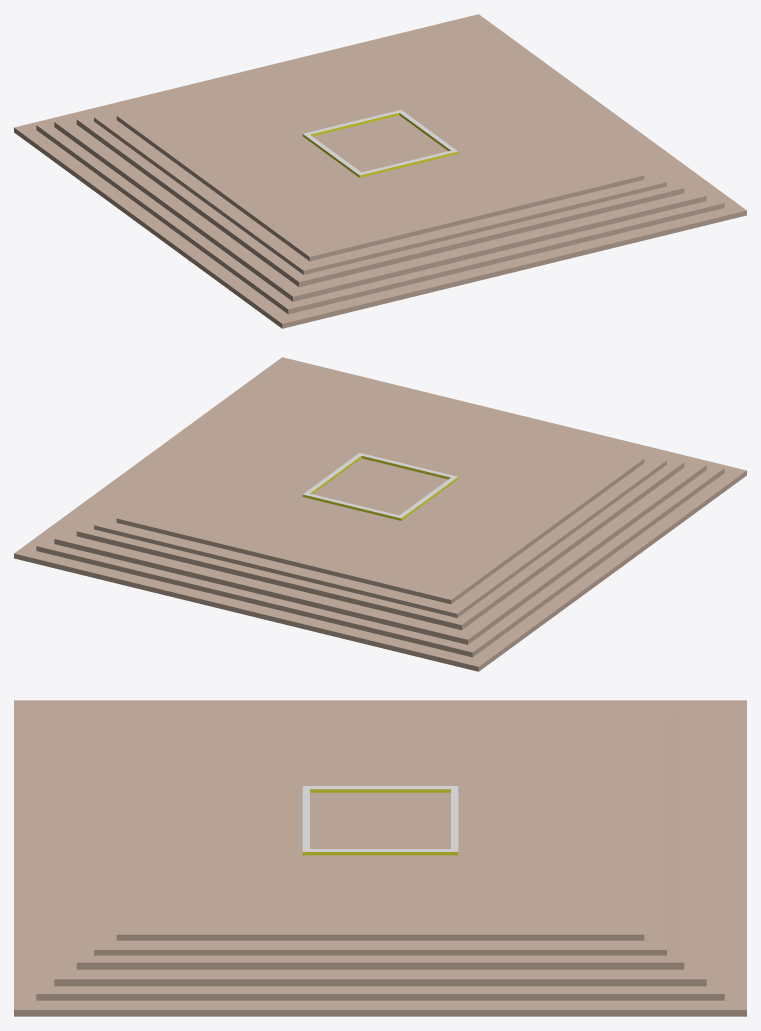
Rendered from Colliders.fbx.
3 renders of one model, top to bottom at view 1: azimuth 30°, elevation 25°; view 2: azimuth 150°, elevation 25°; view 3: azimuth 270°, elevation 25°, orthographic. The views are drawn at different scales.
Visible parts, largest first — view 1: TOWER_FLOOR0_nomesh_collider_box.006, TOWER_FLOOR0_nomesh_collider_box.001, TOWER_FLOOR0_nomesh_collider_box.003, TOWER_FLOOR0_nomesh_collider_box.005, TOWER_FLOOR0_nomesh_collider_box.002, TOWER_FLOOR0_nomesh_collider_box.004, TOWER_FLOOR0_nomesh_collider_box.008, TOWER_FLOOR0_nomesh_collider_box.010; view 2: TOWER_FLOOR0_nomesh_collider_box.006, TOWER_FLOOR0_nomesh_collider_box.001, TOWER_FLOOR0_nomesh_collider_box.003, TOWER_FLOOR0_nomesh_collider_box.005, TOWER_FLOOR0_nomesh_collider_box.002, TOWER_FLOOR0_nomesh_collider_box.004, TOWER_FLOOR0_nomesh_collider_box.010, TOWER_FLOOR0_nomesh_collider_box.008; view 3: TOWER_FLOOR0_nomesh_collider_box.006, TOWER_FLOOR0_nomesh_collider_box.001, TOWER_FLOOR0_nomesh_collider_box.003, TOWER_FLOOR0_nomesh_collider_box.005, TOWER_FLOOR0_nomesh_collider_box.002, TOWER_FLOOR0_nomesh_collider_box.004, TOWER_FLOOR0_nomesh_collider_box.007, TOWER_FLOOR0_nomesh_collider_box.009.
Boxes of the visible parts, <box> form: TOWER_FLOOR0_nomesh_collider_box.006: <box>116,34,644,261</box>; TOWER_FLOOR0_nomesh_collider_box.001: <box>14,14,746,328</box>; TOWER_FLOOR0_nomesh_collider_box.003: <box>54,21,706,301</box>; TOWER_FLOOR0_nomesh_collider_box.005: <box>94,29,666,274</box>; TOWER_FLOOR0_nomesh_collider_box.002: <box>36,18,724,314</box>; TOWER_FLOOR0_nomesh_collider_box.004: <box>76,25,684,287</box>; TOWER_FLOOR0_nomesh_collider_box.008: <box>359,150,458,177</box>; TOWER_FLOOR0_nomesh_collider_box.010: <box>303,110,400,136</box>; TOWER_FLOOR0_nomesh_collider_box.006: <box>116,377,644,604</box>; TOWER_FLOOR0_nomesh_collider_box.001: <box>14,357,746,671</box>; TOWER_FLOOR0_nomesh_collider_box.003: <box>54,364,706,644</box>; TOWER_FLOOR0_nomesh_collider_box.005: <box>94,372,666,617</box>; TOWER_FLOOR0_nomesh_collider_box.002: <box>36,361,724,657</box>; TOWER_FLOOR0_nomesh_collider_box.004: <box>76,368,684,630</box>; TOWER_FLOOR0_nomesh_collider_box.010: <box>302,493,401,520</box>; TOWER_FLOOR0_nomesh_collider_box.008: <box>360,453,457,479</box>; TOWER_FLOOR0_nomesh_collider_box.006: <box>116,711,644,940</box>; TOWER_FLOOR0_nomesh_collider_box.001: <box>14,700,746,1016</box>; TOWER_FLOOR0_nomesh_collider_box.003: <box>54,703,706,986</box>; TOWER_FLOOR0_nomesh_collider_box.005: <box>94,708,666,955</box>; TOWER_FLOOR0_nomesh_collider_box.002: <box>36,703,724,1000</box>; TOWER_FLOOR0_nomesh_collider_box.004: <box>76,706,684,969</box>; TOWER_FLOOR0_nomesh_collider_box.007: <box>302,849,458,855</box>; TOWER_FLOOR0_nomesh_collider_box.009: <box>303,786,457,792</box>.
Size of the model in its own units: 417 by 417 by 26.85.
